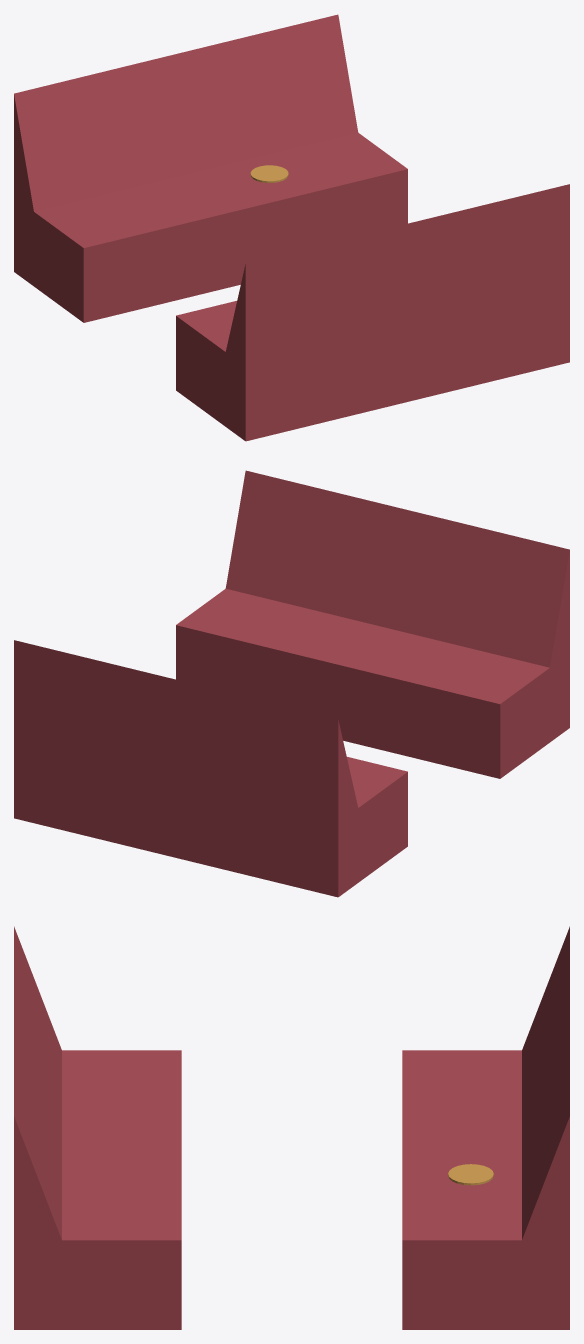
Rendered from uhr2.gltf.
3 renders of one model, top to bottom at view 1: azimuth 30°, elevation 25°; view 2: azimuth 150°, elevation 25°; view 3: azimuth 270°, elevation 25°, orthographic. The views are drawn at different scales.
Visible parts, largest first — view 1: Mesh_Mesh_head_geo.001_lambert2SG.001; view 2: Mesh_Mesh_head_geo.001_lambert2SG.001; view 3: Mesh_Mesh_head_geo.001_lambert2SG.001.
Boxes of the visible parts, x1,y1,x2,y2 form: Mesh_Mesh_head_geo.001_lambert2SG.001: [14, 14, 569, 441]; Mesh_Mesh_head_geo.001_lambert2SG.001: [14, 470, 569, 897]; Mesh_Mesh_head_geo.001_lambert2SG.001: [14, 926, 569, 1329].
Size of the model in its own units: 59 by 31 by 73.
